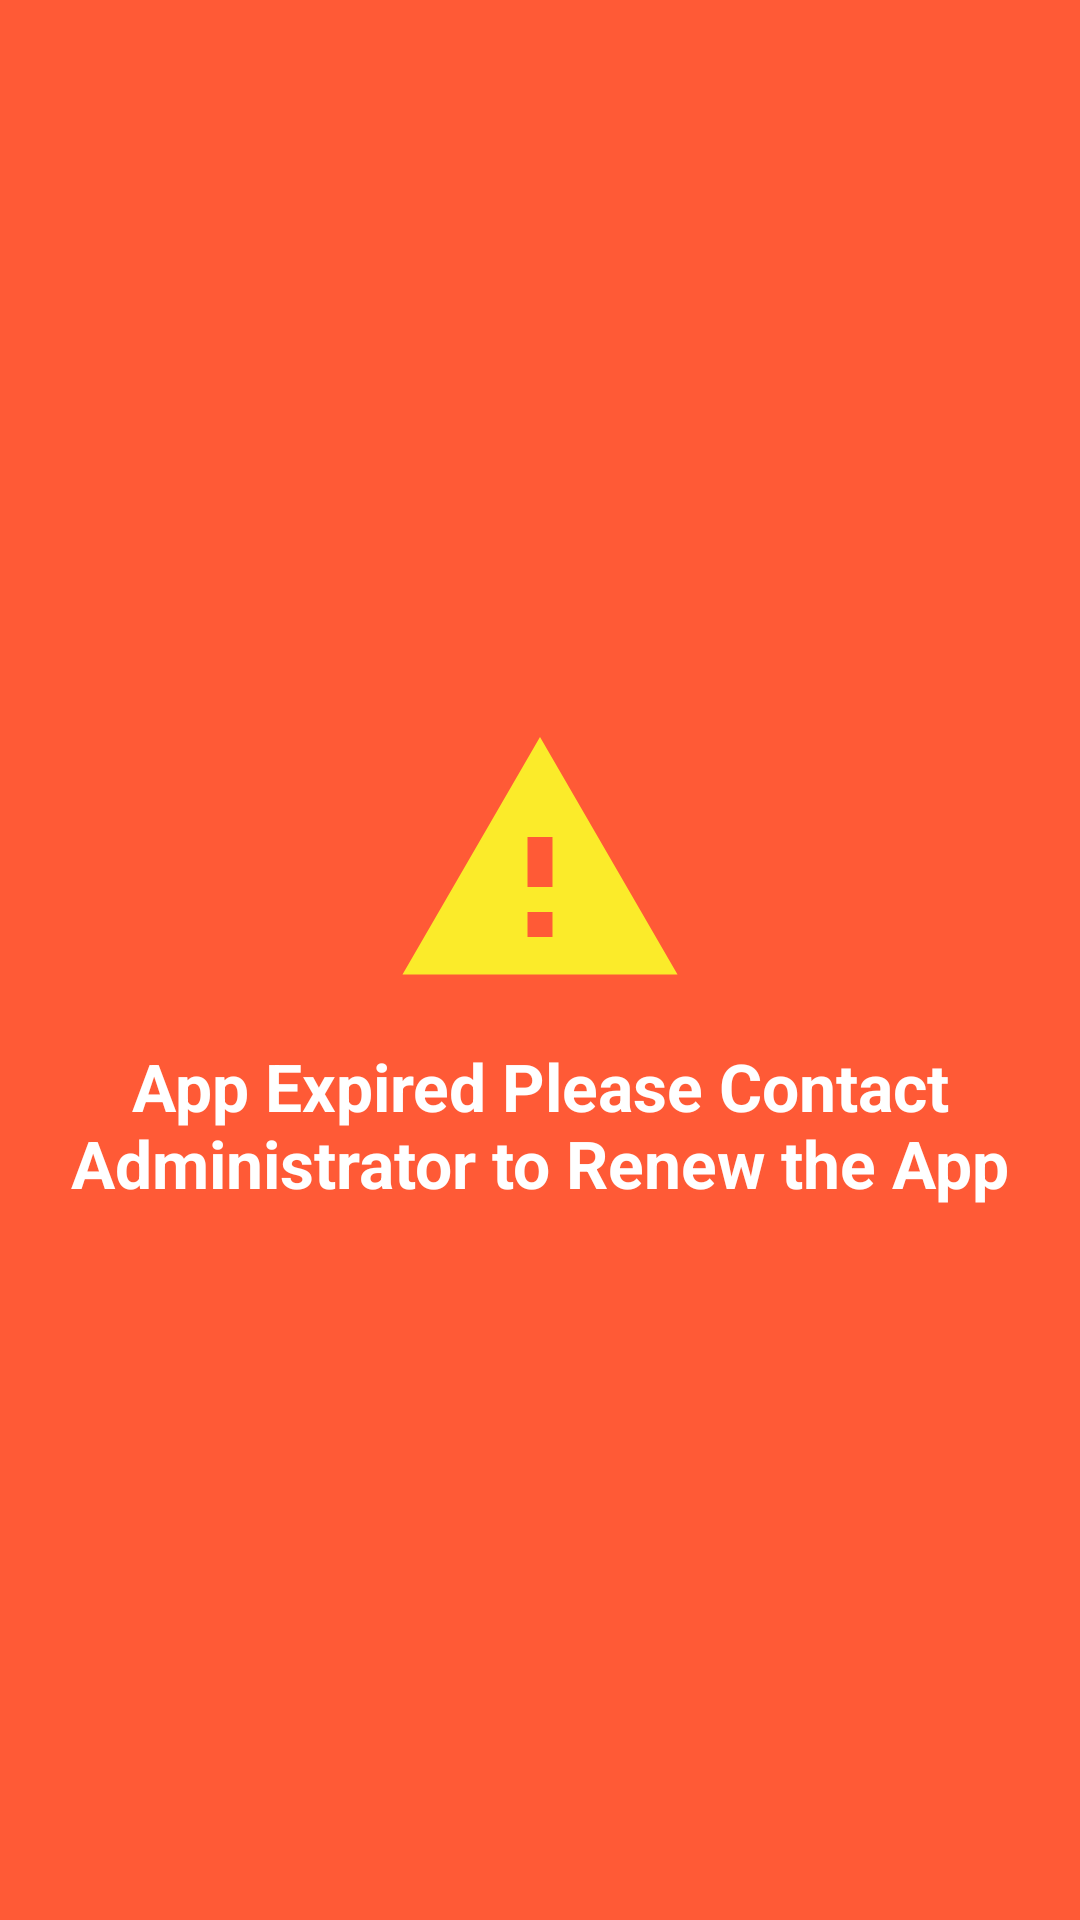

Locate icon controls on the screen. Image size 1080px×1920px, boxes as {"left": x1, "top": y1, "right": x2, "bottom": y2}.
warning: {"left": 402, "top": 737, "right": 678, "bottom": 975}
